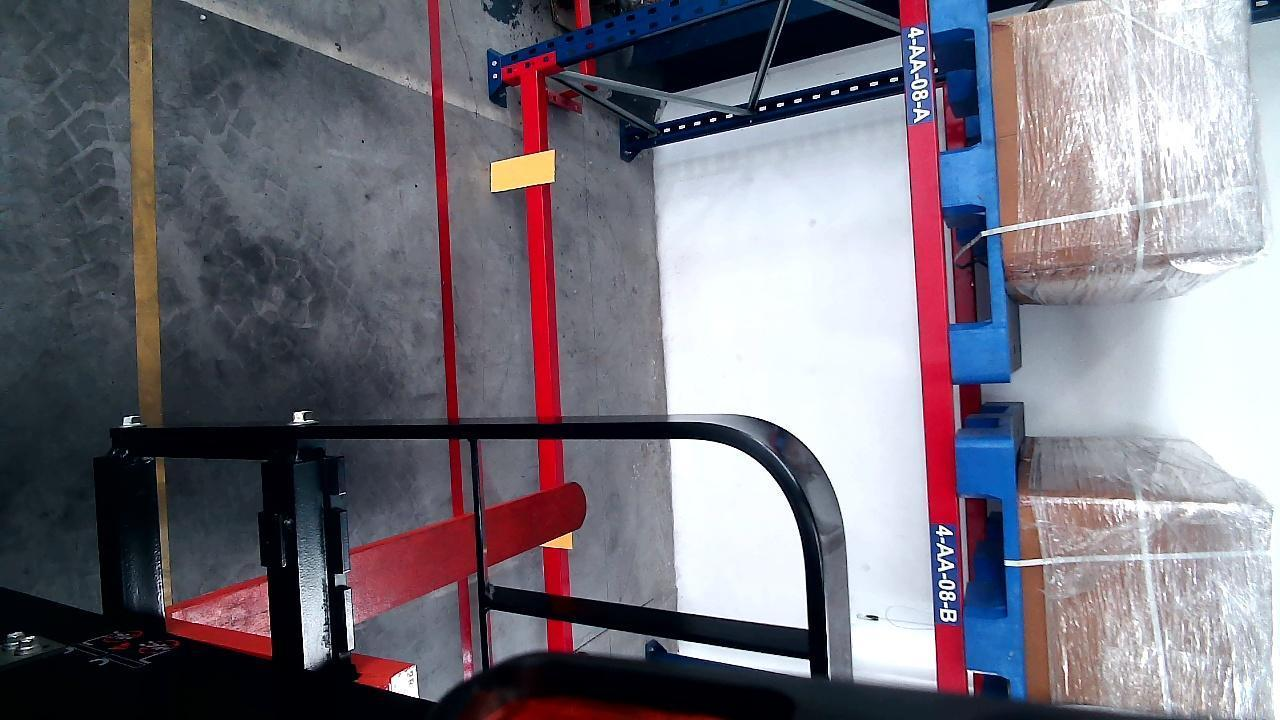h_rack: (903, 0, 964, 694), (520, 75, 557, 423)
orange_strip: (490, 150, 555, 191)
red_line: (430, 0, 458, 428)
small_pallet: (933, 0, 1013, 370), (961, 439, 1024, 701)
yellow_line: (131, 0, 160, 418)
